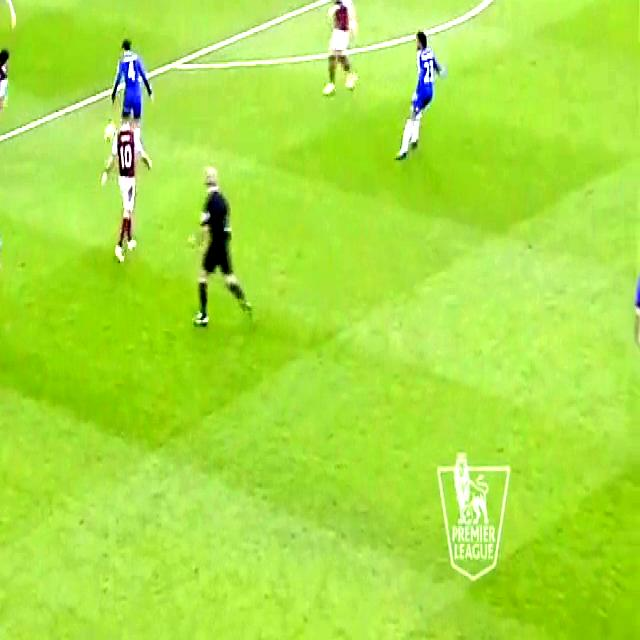ball: (102, 109, 120, 154)
referee: (194, 151, 253, 330)
soccer-player: (392, 15, 444, 170), (107, 28, 152, 152), (110, 129, 144, 275), (318, 0, 362, 107), (0, 188, 7, 377), (0, 44, 9, 180), (0, 0, 15, 59)
